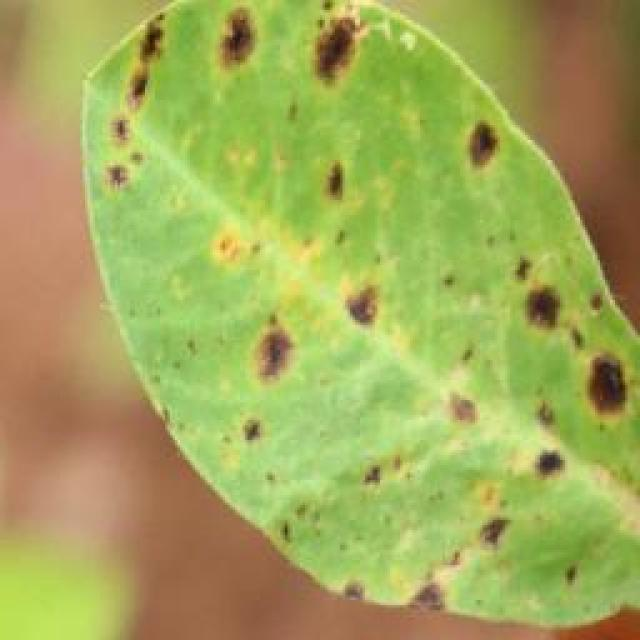Yellowish: (94, 9, 640, 598)
